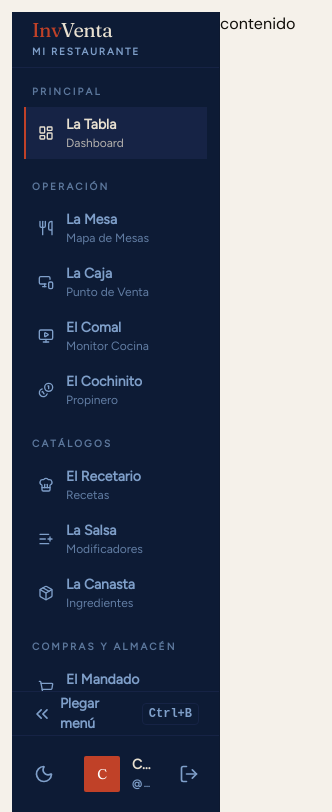
Test case: El menú lateral › el botón de plegar está en el menú, con su atajo a la vista
Later steps or results of the test are not shown.
Expected: the text "Ctrl+B" is shown, [142,702,199,724]
Click the button with aria-label "Plegar el menú": (116, 713) [12,691,219,735]
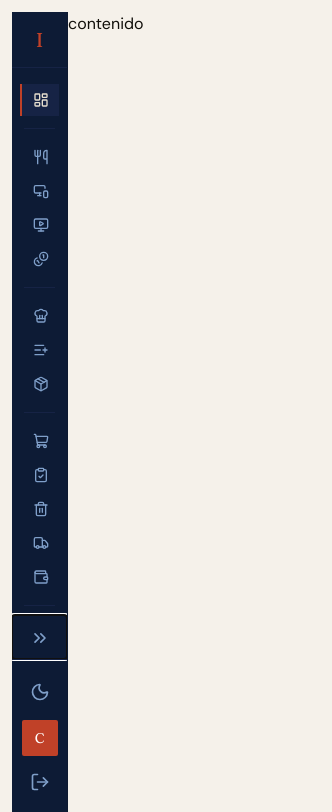
Expected: the link titled "El Diablito · Recepción" is shown, [32,467,48,483]
